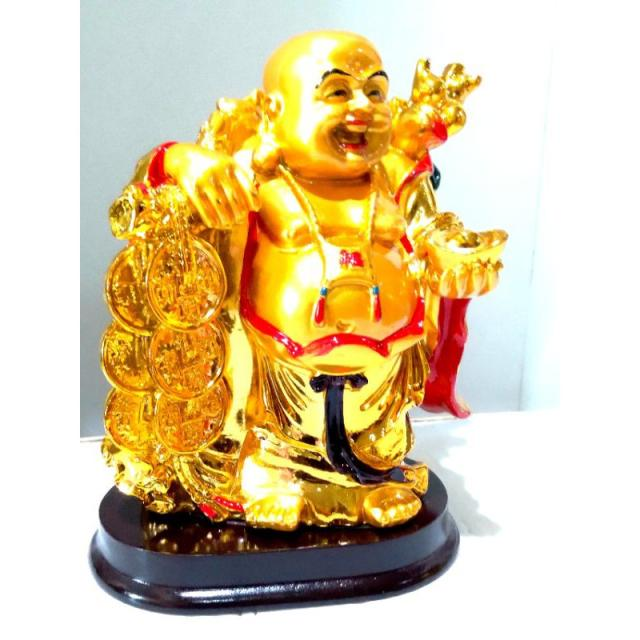Smiling Buddha: (167, 21, 460, 551)
